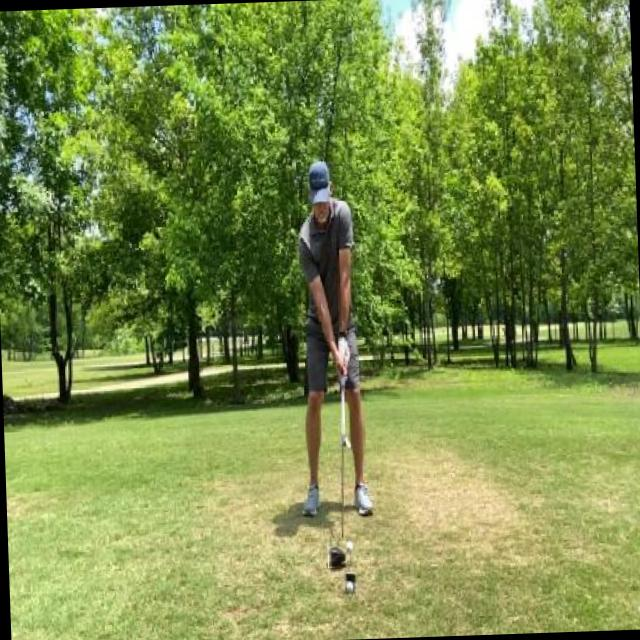club head: (326, 537, 346, 568)
